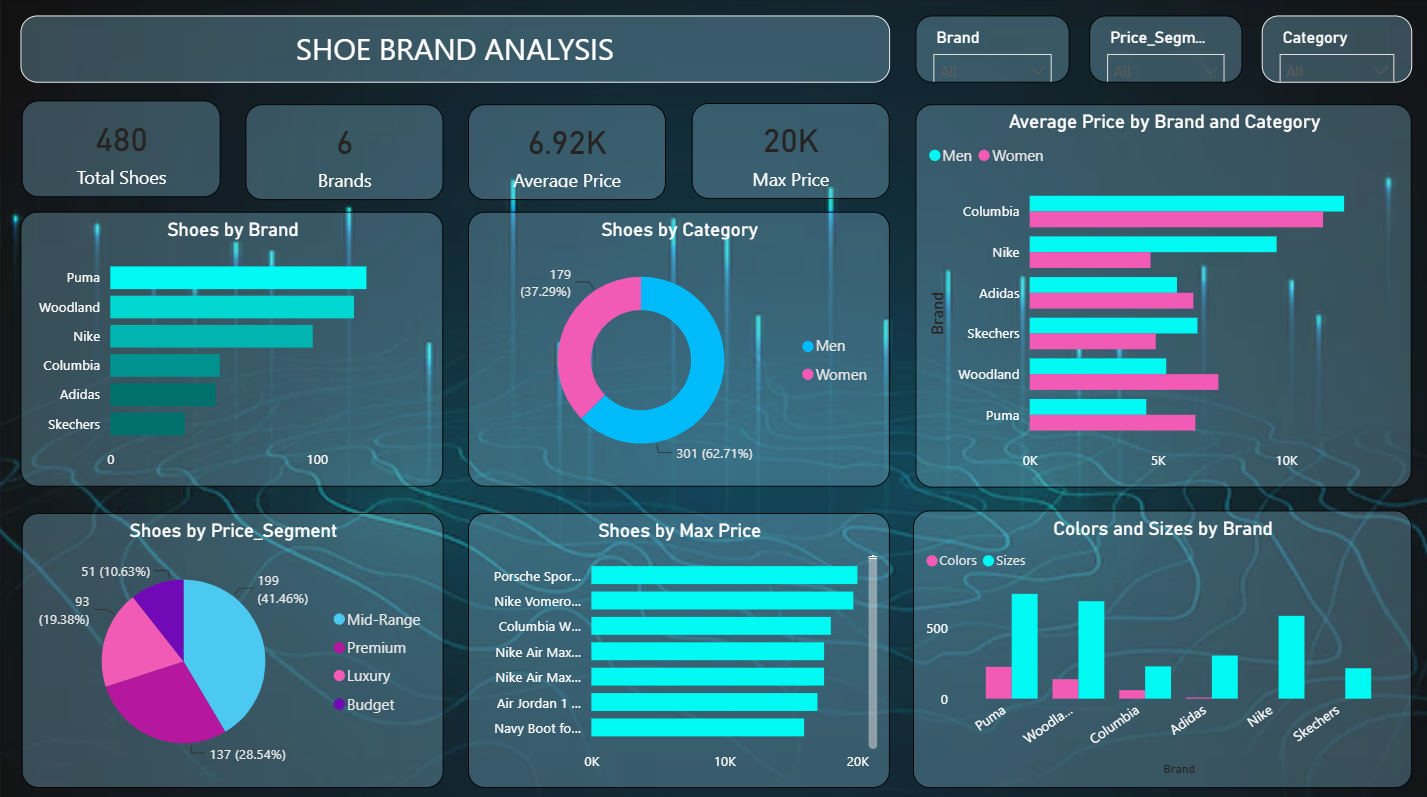

Layout of this report page (visuals, bound fields, positions):
{"tool":"powerbi","page":{"name":"Page 1","canvas":[1280,720],"ordinal":0},"visuals":[{"type":"card","fields":{"Values":["Max(PBI_Master.Max_Price)"]},"box":[620,93.3,176.7,85.6],"z":0},{"type":"card","fields":{"Values":["Count(PBI_Master.Brand Hierarchy.Brand)"]},"box":[221.1,94.4,176.7,85.6],"z":1000},{"type":"card","fields":{"Values":["Avg(PBI_Master.Max_Price)"]},"box":[420,94.4,176.7,85.6],"z":2000},{"type":"card","fields":{"Values":["CountNonNull(PBI_Master.ShoeName)"]},"box":[21.1,91.1,177.8,86.7],"z":3000},{"type":"slicer","fields":{"Values":["PBI_Master.Brand"]},"box":[820,15.6,137.8,60],"z":4000},{"type":"slicer","fields":{"Values":["PBI_Master.Price_Segment"]},"box":[974.4,15.6,136.7,60],"z":5000},{"type":"slicer","fields":{"Values":["PBI_Master.Category"]},"box":[1128.9,15.6,134.4,60],"z":6000},{"type":"clusteredBarChart","title":"Shoes by Brand","fields":{"Category":["PBI_Master.Brand"],"Y":["CountNonNull(PBI_Master.ShoeName)"]},"box":[20,191.1,377.8,245.6],"z":7000},{"type":"donutChart","title":"Shoes by Category","fields":{"Category":["PBI_Master.Category"],"Y":["CountNonNull(PBI_Master.ShoeName)"]},"box":[420,191.1,376.7,245.6],"z":8000},{"type":"pieChart","title":"Shoes by Price_Segment","fields":{"Category":["PBI_Master.Price_Segment"],"Y":["CountNonNull(PBI_Master.ShoeName)"]},"box":[21.1,460,376.7,245.6],"z":9000},{"type":"clusteredBarChart","title":"Shoes by Max Price","fields":{"Category":["PBI_Master.ShoeName"],"Y":["Max(PBI_Master.Max_Price)"]},"box":[420,460,376.7,245.6],"z":10000},{"type":"clusteredColumnChart","title":"Colors and Sizes by Brand","fields":{"Y":["Sum(PBI_Master.No_of_Colors)","Sum(PBI_Master.Count_of_Sizes)"],"Category":["PBI_Master.Brand"]},"box":[817.8,457.8,445.6,251.1],"z":11000},{"type":"clusteredBarChart","title":"Average  Price by Brand and Category","fields":{"Category":["PBI_Master.Brand"],"Y":["Avg(PBI_Master.Max_Price)"],"Series":["PBI_Master.Category"]},"box":[820,94.4,443.3,342.2],"z":12000},{"type":"textbox","box":[20,15.6,776.7,60],"z":13000}]}

Visuals, with their boxes in screenshot pixels (x1, y1, x2, y2), scaled from the page's 1280x720 canvas onto the 1427x797 screenshot:
card - Max(PBI_Master.Max_Price): bbox=[691, 103, 888, 198]
card - Count(PBI_Master.Brand Hierarchy.Brand): bbox=[246, 104, 443, 199]
card - Avg(PBI_Master.Max_Price): bbox=[468, 104, 665, 199]
card - CountNonNull(PBI_Master.ShoeName): bbox=[24, 101, 222, 197]
slicer - PBI_Master.Brand: bbox=[914, 17, 1068, 84]
slicer - PBI_Master.Price_Segment: bbox=[1086, 17, 1239, 84]
slicer - PBI_Master.Category: bbox=[1259, 17, 1408, 84]
"Shoes by Brand" clusteredBarChart: bbox=[22, 212, 443, 483]
"Shoes by Category" donutChart: bbox=[468, 212, 888, 483]
"Shoes by Price_Segment" pieChart: bbox=[24, 509, 443, 781]
"Shoes by Max Price" clusteredBarChart: bbox=[468, 509, 888, 781]
"Colors and Sizes by Brand" clusteredColumnChart: bbox=[912, 507, 1408, 785]
"Average  Price by Brand and Category" clusteredBarChart: bbox=[914, 104, 1408, 483]
textbox: bbox=[22, 17, 888, 84]
